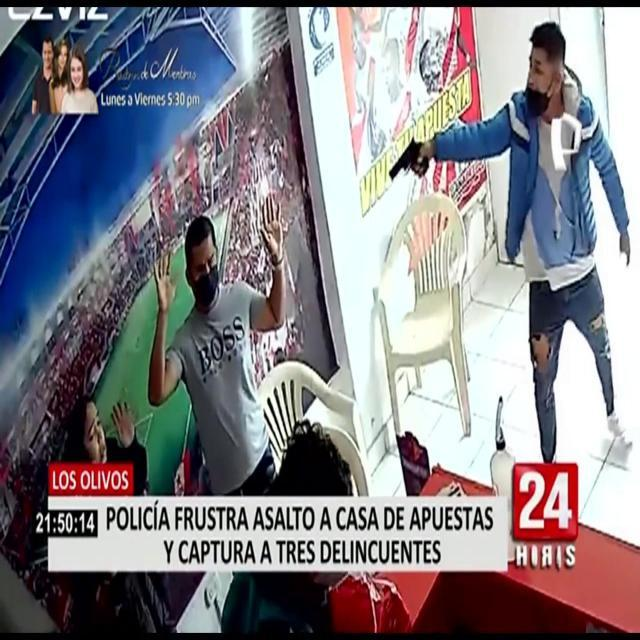weapon: (380, 113, 438, 193)
